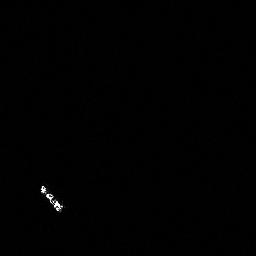ship: (40, 185, 62, 212)
